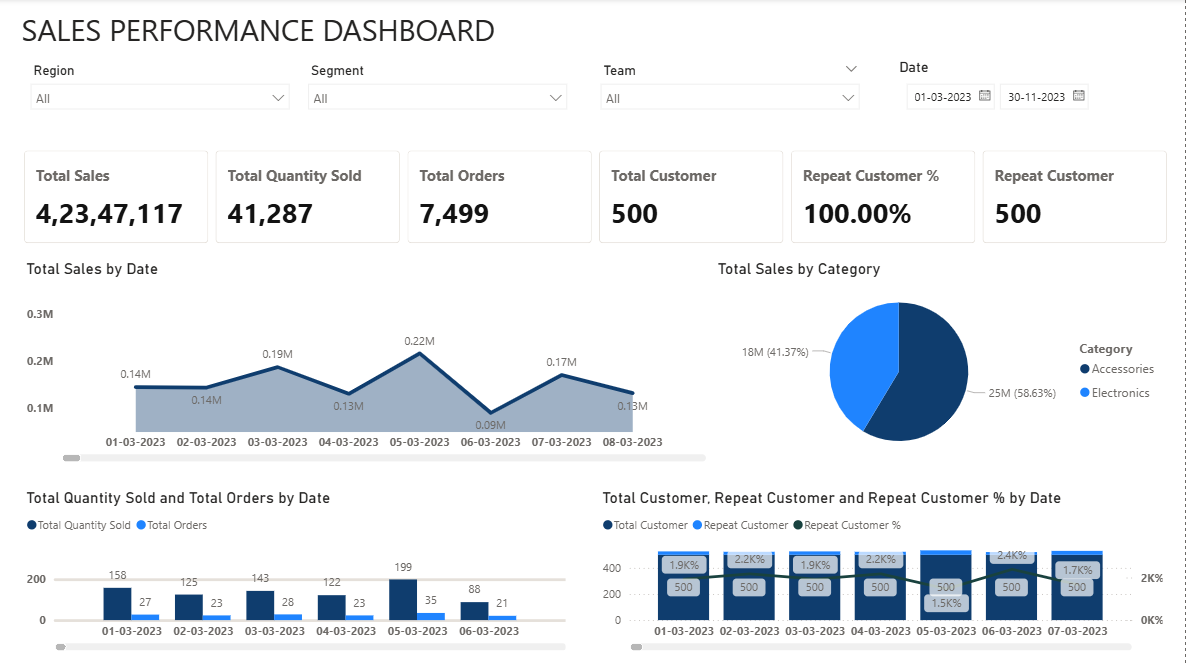

This screenshot's page, from the dashboard's own definition file:
{"tool":"powerbi","page":{"name":"Summary","canvas":[1280,720],"ordinal":0},"visuals":[{"type":"cardVisual","fields":{"Data":["_All Measures.Total Sales","_All Measures.Total Quantity Sold","_All Measures.Total Orders","_All Measures.Total Customer","_All Measures.Returning Customer","_All Measures.Repeat Customer"]},"box":[9.7,147.3,1271.1,134.4],"z":0},{"type":"lineChart","fields":{"Category":["Calender.Date"],"Y":["_All Measures.Total Sales"]},"box":[24.3,281.7,746.5,223.5],"z":1000},{"type":"slicer","title":"Date","fields":{"Values":["Calender.Date"]},"box":[966.7,64.8,294.7,71.2],"z":2000},{"type":"lineStackedColumnComboChart","fields":{"Category":["Calender.Date"],"Y":["_All Measures.Total Customer","_All Measures.Repeat Customer"],"Y2":["_All Measures.Returning Customer"]},"box":[646.1,529.5,615.3,179.7],"z":3000},{"type":"clusteredColumnChart","fields":{"Category":["Calender.Date"],"Y":["_All Measures.Total Quantity Sold","_All Measures.Total Orders"]},"box":[24.3,529.5,592.6,179.7],"z":4000},{"type":"slicer","fields":{"Values":["SalesData.Region"]},"box":[24.3,64.8,299.6,71.2],"z":5000},{"type":"slicer","fields":{"Values":["SalesData.Segment"]},"box":[323.8,64.8,299.6,72.9],"z":6000},{"type":"slicer","fields":{"Values":["SalesData.Team"]},"box":[639.6,64.8,299.6,71.2],"z":7000},{"type":"actionButton","title":"SALES PERFORMANCE DASHBOARD","box":[24.3,11.3,553.8,40.5],"z":8000},{"type":"pieChart","fields":{"Y":["_All Measures.Total Sales"],"Category":["SalesData.Category"]},"box":[770.8,281.7,490.6,223.5],"z":9000}]}

Visuals, with their boxes in screenshot pixels (x1, y1, x2, y2), scaled from the page's 1280x720 canvas onto the 1186x664 screenshot:
cardVisual - _All Measures.Total Sales x _All Measures.Total Quantity Sold: [9, 136, 1185, 260]
lineChart - Calender.Date x _All Measures.Total Sales: [23, 260, 714, 466]
"Date" slicer: [896, 60, 1169, 125]
lineStackedColumnComboChart - Calender.Date x _All Measures.Total Customer: [599, 488, 1169, 654]
clusteredColumnChart - Calender.Date x _All Measures.Total Quantity Sold: [23, 488, 572, 654]
slicer - SalesData.Region: [23, 60, 300, 125]
slicer - SalesData.Segment: [300, 60, 578, 127]
slicer - SalesData.Team: [593, 60, 870, 125]
"SALES PERFORMANCE DASHBOARD" actionButton: [23, 10, 536, 48]
pieChart - _All Measures.Total Sales x SalesData.Category: [714, 260, 1169, 466]
